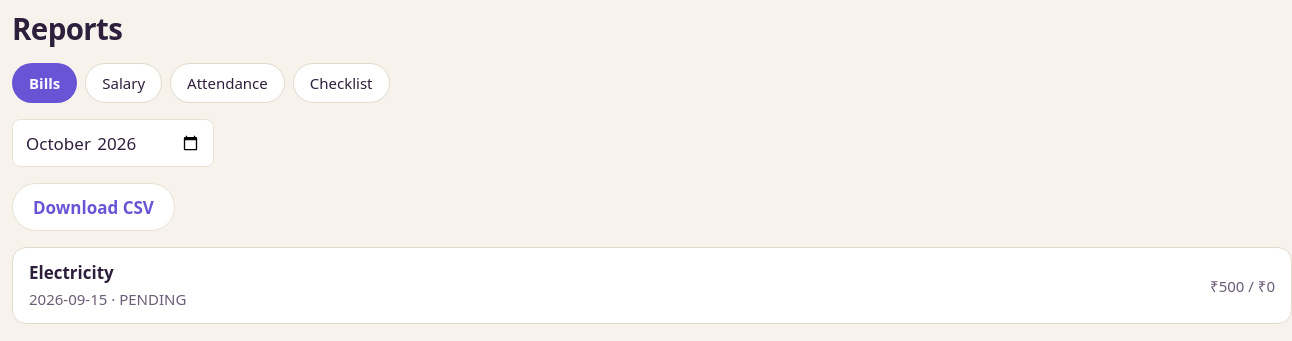
ReportsPage › switches to the salary report when selected
Expected: the text "Electricity" is shown, x1=29 y1=261 x2=114 y2=284
Click the button "Salary" at (124, 83), box x1=85 y1=63 x2=162 y2=103
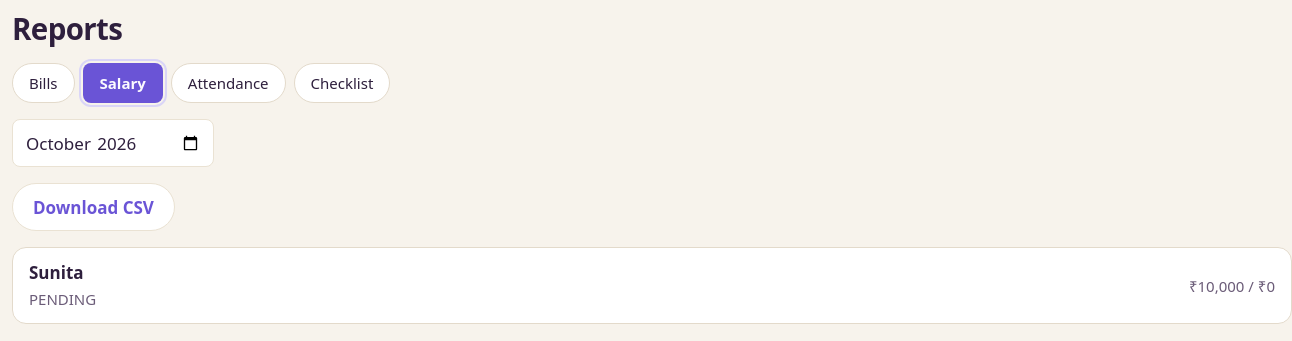
Expected: the text "Sunita" is shown, x1=29 y1=261 x2=84 y2=284
